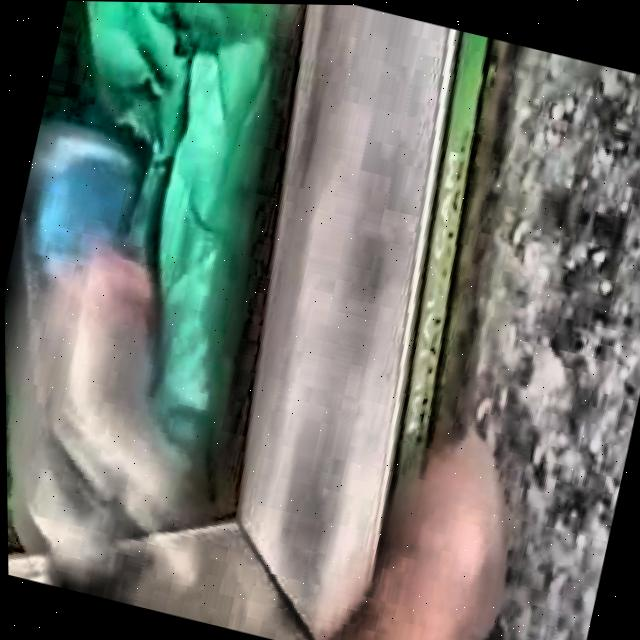metal: (4, 131, 206, 574)
